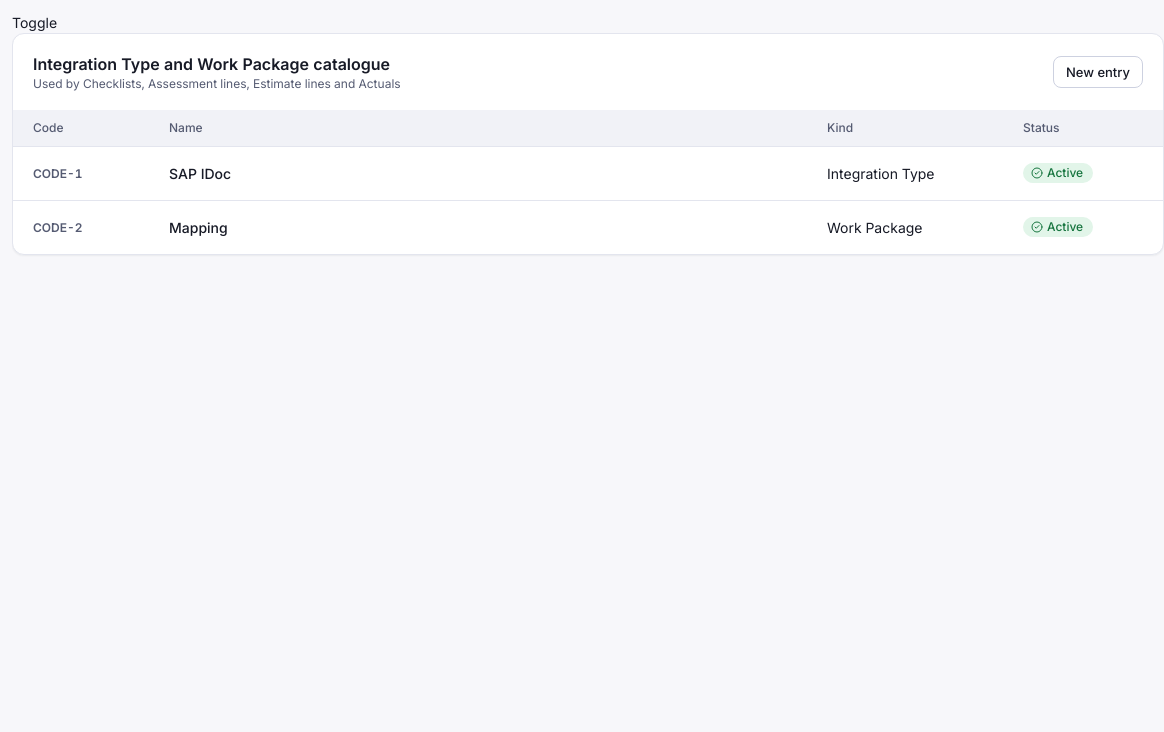
Test: CatalogueAdmin › a duplicate on create shows the sentence and adds nothing
This screenshot has width=1164, height=732.
Step 1. Type keys "c"
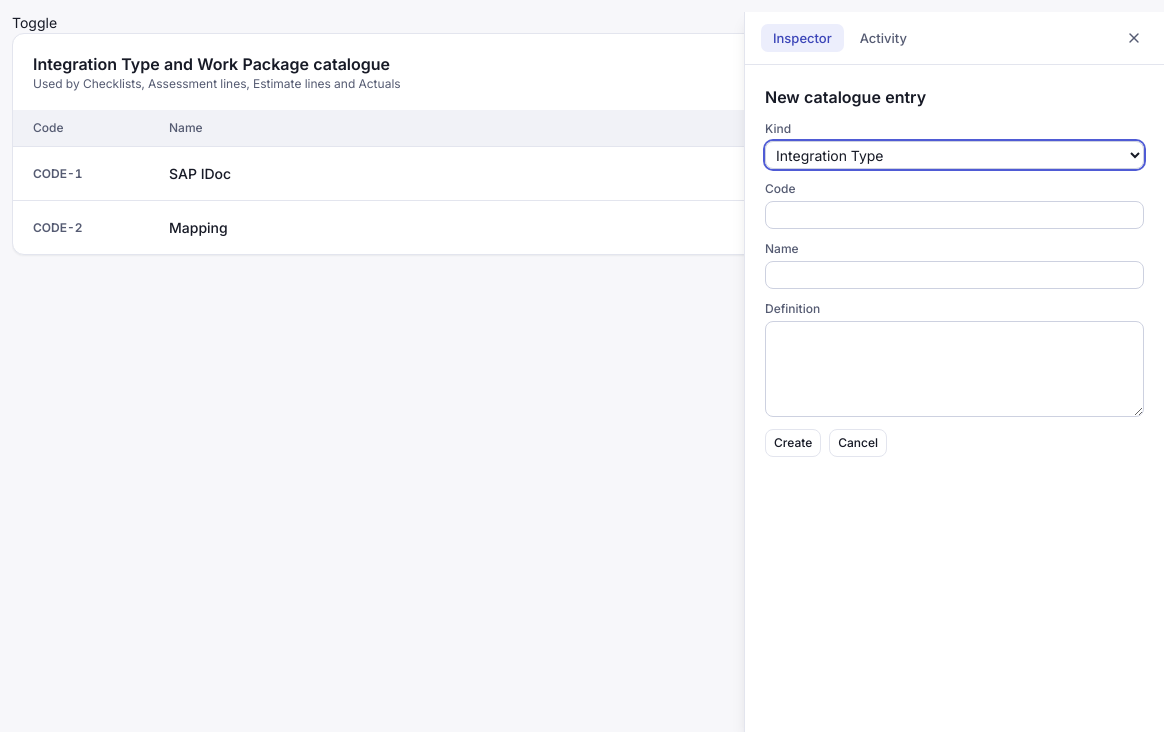
Step 2. Select "Work Package" in the dropdown labelled "Kind" → (954, 155), box [765,141,1144,169]
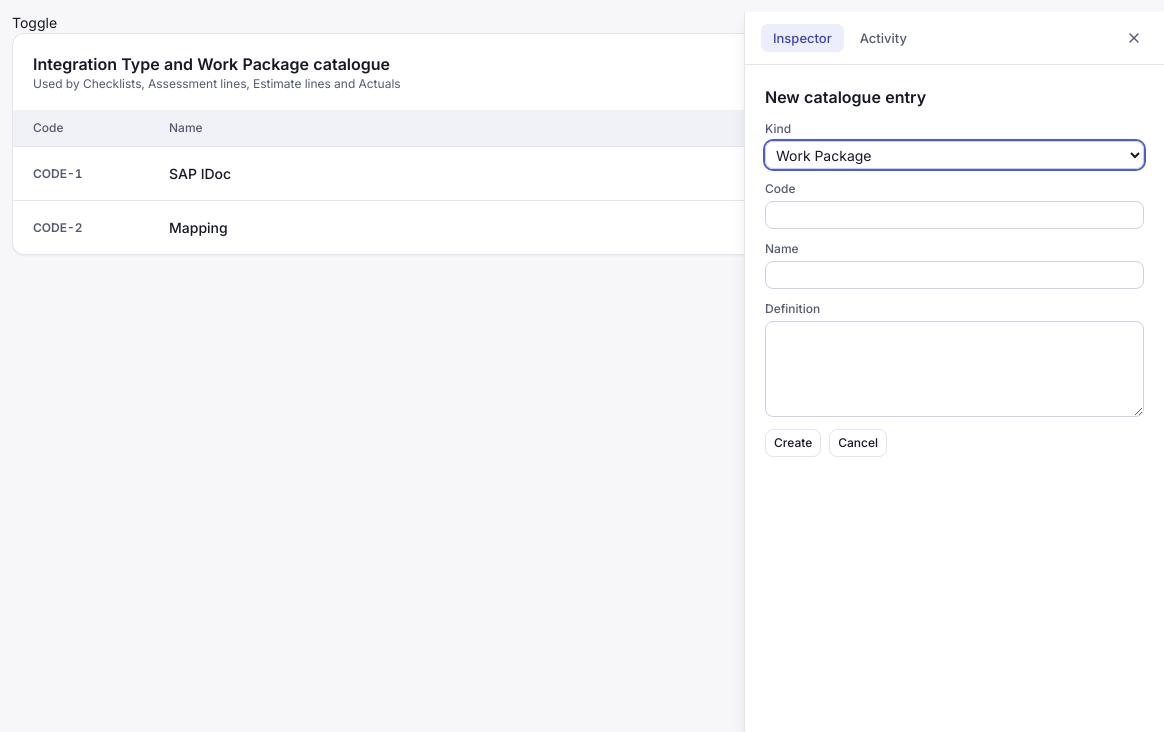
Step 3. Type "X" into the field labelled "Code" → (954, 215), box [765,201,1144,229]
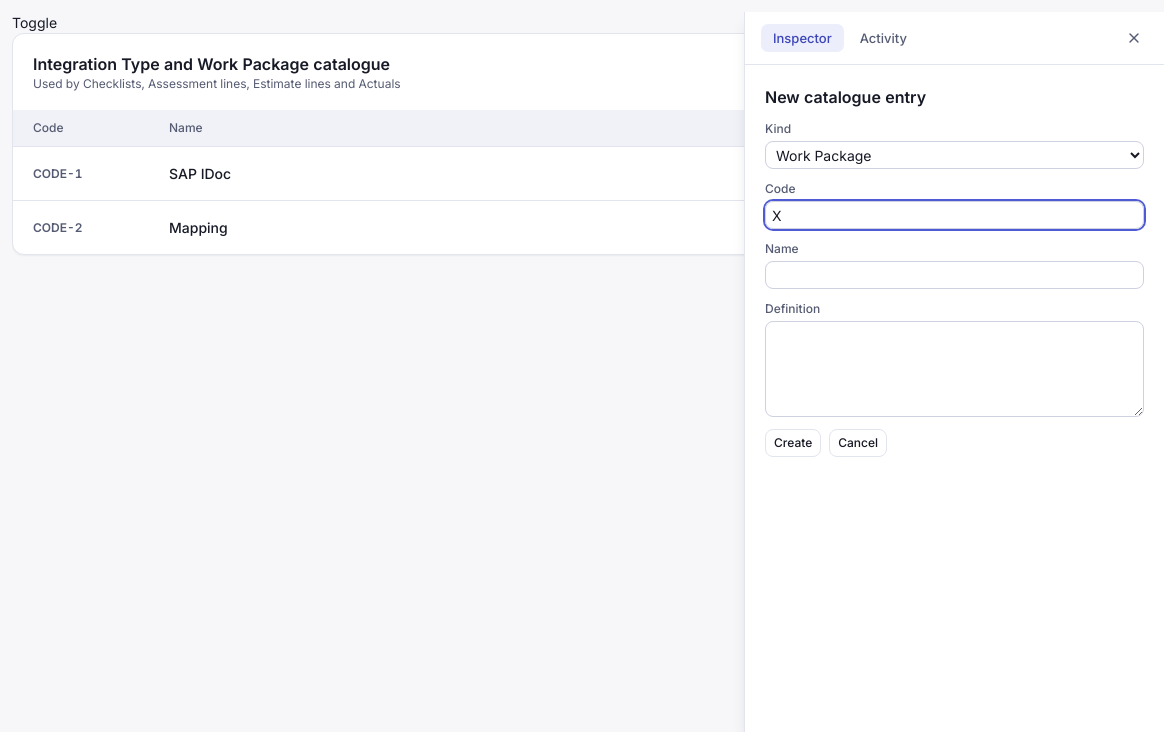
Step 4. Type "Mapping" into the field labelled "Name" → (954, 275), box [765,261,1144,289]
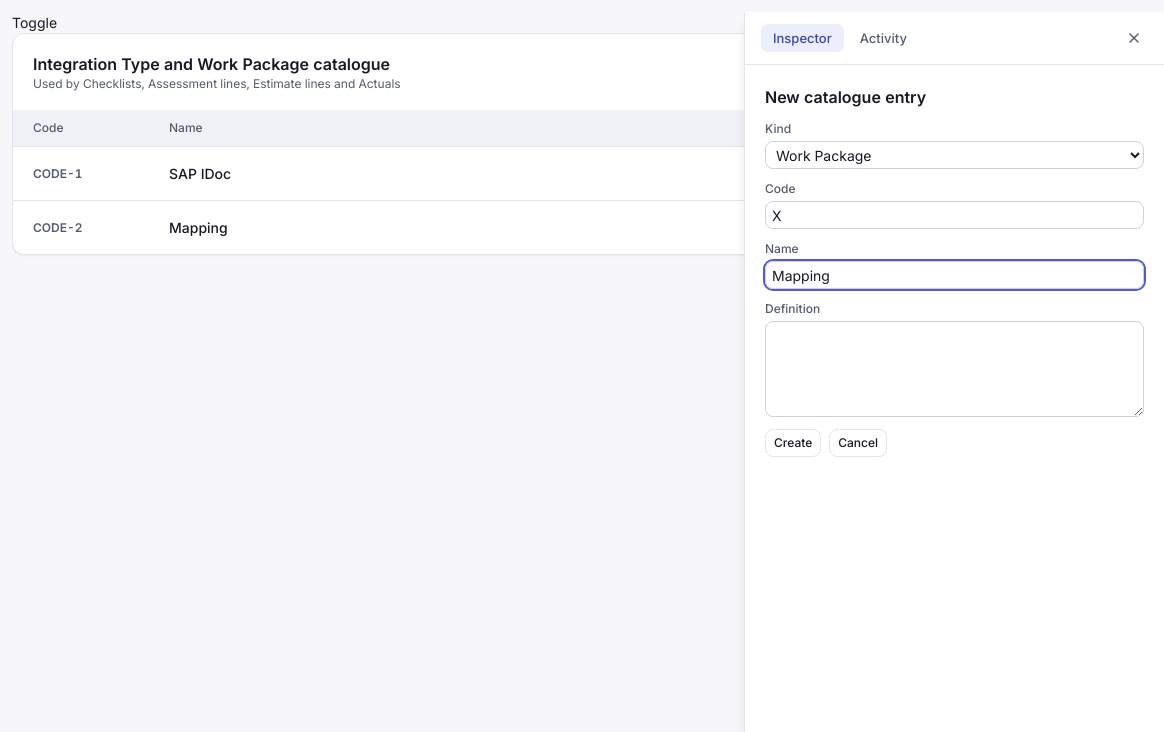
Step 5. Type "d" into the text box labelled "Definition" → (954, 369), box [765,321,1144,417]
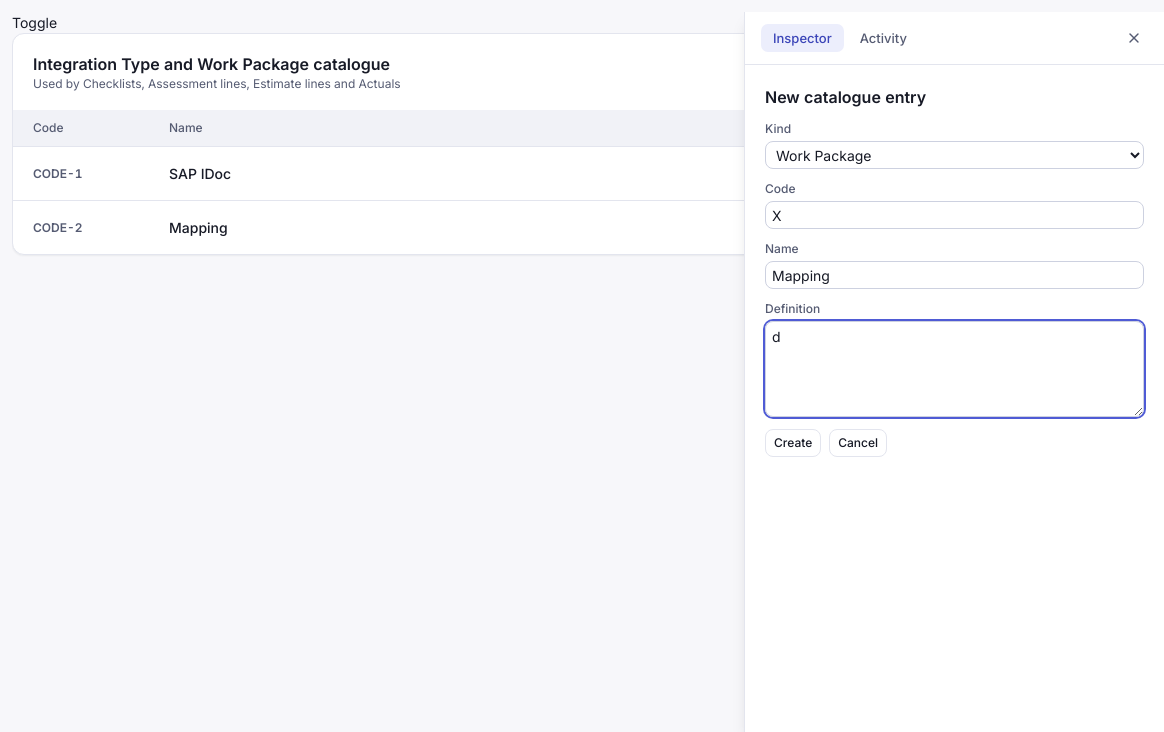
Step 6. Click the button "Create" → (793, 443), box [765,429,821,457]
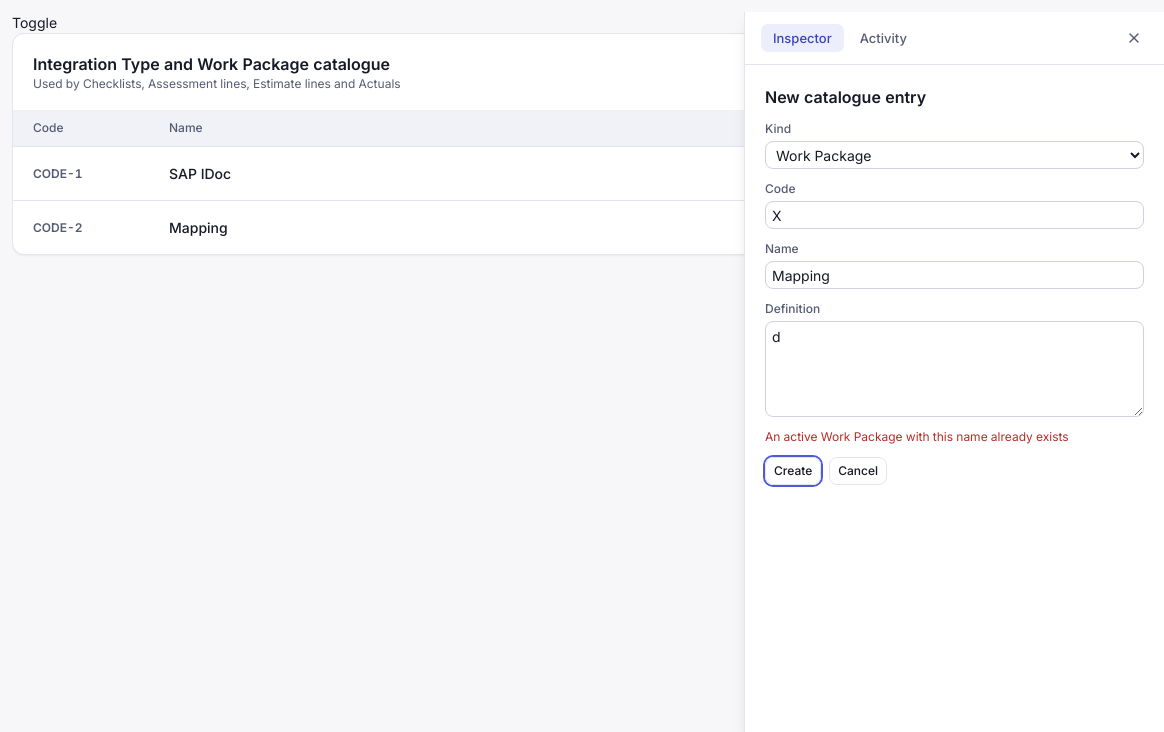
expect the number of buttons "Mapping" is 1: met, box [169,217,228,238]
expect the text "An active Work Package with this name already exists" is shown: met, box [765,429,1069,444]
